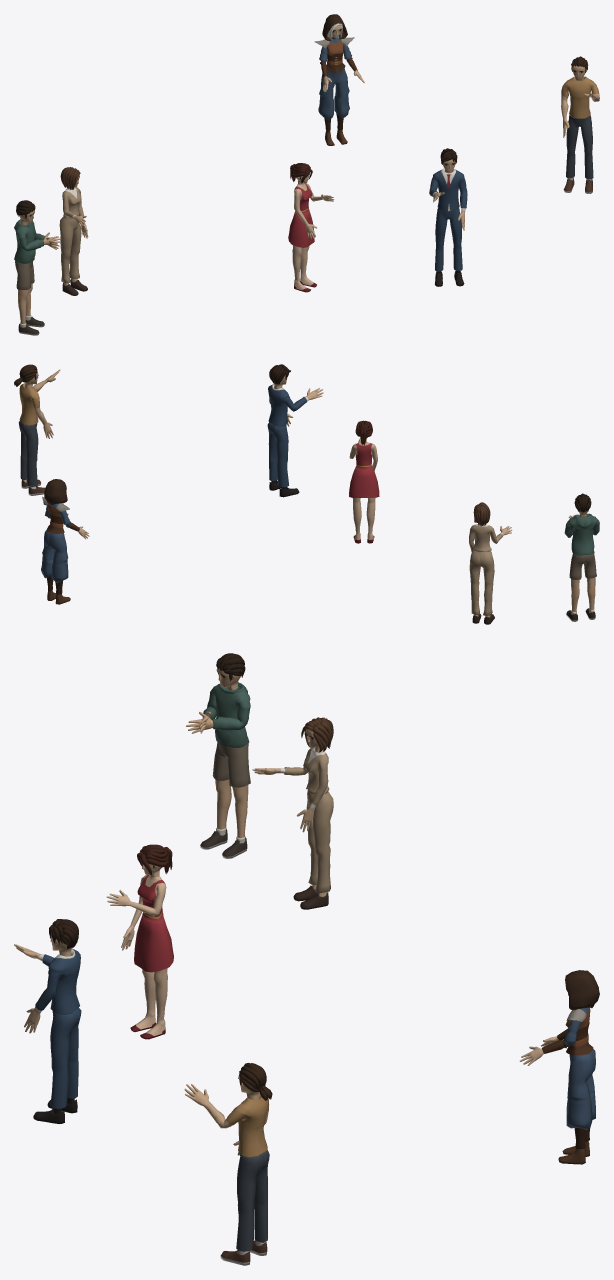
The model's file is stage-actors.glb.
3 renders of one model, top to bottom at view 1: azimuth 30°, elevation 25°; view 2: azimuth 150°, elevation 25°; view 3: azimuth 270°, elevation 25°, orthographic. The views are drawn at different scales.
Visible parts, largest first — view 1: Stage_Actor_ensemble-female-upstage, Stage_Actor_lead-male, Stage_Actor_supporting-male-left, Stage_Actor_supporting-male-right, Stage_Actor_supporting-female-right, Stage_Actor_lead-female; view 2: Stage_Actor_lead-male, Stage_Actor_ensemble-female-upstage, Stage_Actor_supporting-male-left, Stage_Actor_supporting-male-right, Stage_Actor_supporting-female-right, Stage_Actor_lead-female; view 3: Stage_Actor_supporting-male-right, Stage_Actor_supporting-male-left, Stage_Actor_lead-male, Stage_Actor_lead-female, Stage_Actor_ensemble-female-upstage, Stage_Actor_supporting-female-right.
Part boxes in pixels (x1,y1,x2,y2): Stage_Actor_ensemble-female-upstage: [314, 14, 364, 145]; Stage_Actor_lead-male: [429, 148, 467, 286]; Stage_Actor_supporting-male-left: [561, 56, 599, 193]; Stage_Actor_supporting-male-right: [14, 200, 60, 335]; Stage_Actor_supporting-female-right: [59, 167, 88, 295]; Stage_Actor_lead-female: [288, 163, 334, 292]; Stage_Actor_lead-male: [267, 364, 323, 497]; Stage_Actor_ensemble-female-upstage: [41, 479, 89, 604]; Stage_Actor_supporting-male-left: [14, 364, 60, 495]; Stage_Actor_supporting-male-right: [564, 493, 599, 621]; Stage_Actor_supporting-female-right: [469, 502, 512, 624]; Stage_Actor_lead-female: [349, 420, 379, 543]; Stage_Actor_supporting-male-right: [186, 653, 250, 858]; Stage_Actor_supporting-male-left: [184, 1063, 272, 1265]; Stage_Actor_lead-male: [14, 919, 81, 1123]; Stage_Actor_lead-female: [106, 844, 173, 1039]; Stage_Actor_ensemble-female-upstage: [519, 970, 599, 1164]; Stage_Actor_supporting-female-right: [252, 717, 333, 909].
Bounding box in the file's own units: 8.39 × 1.78 × 4.83.
